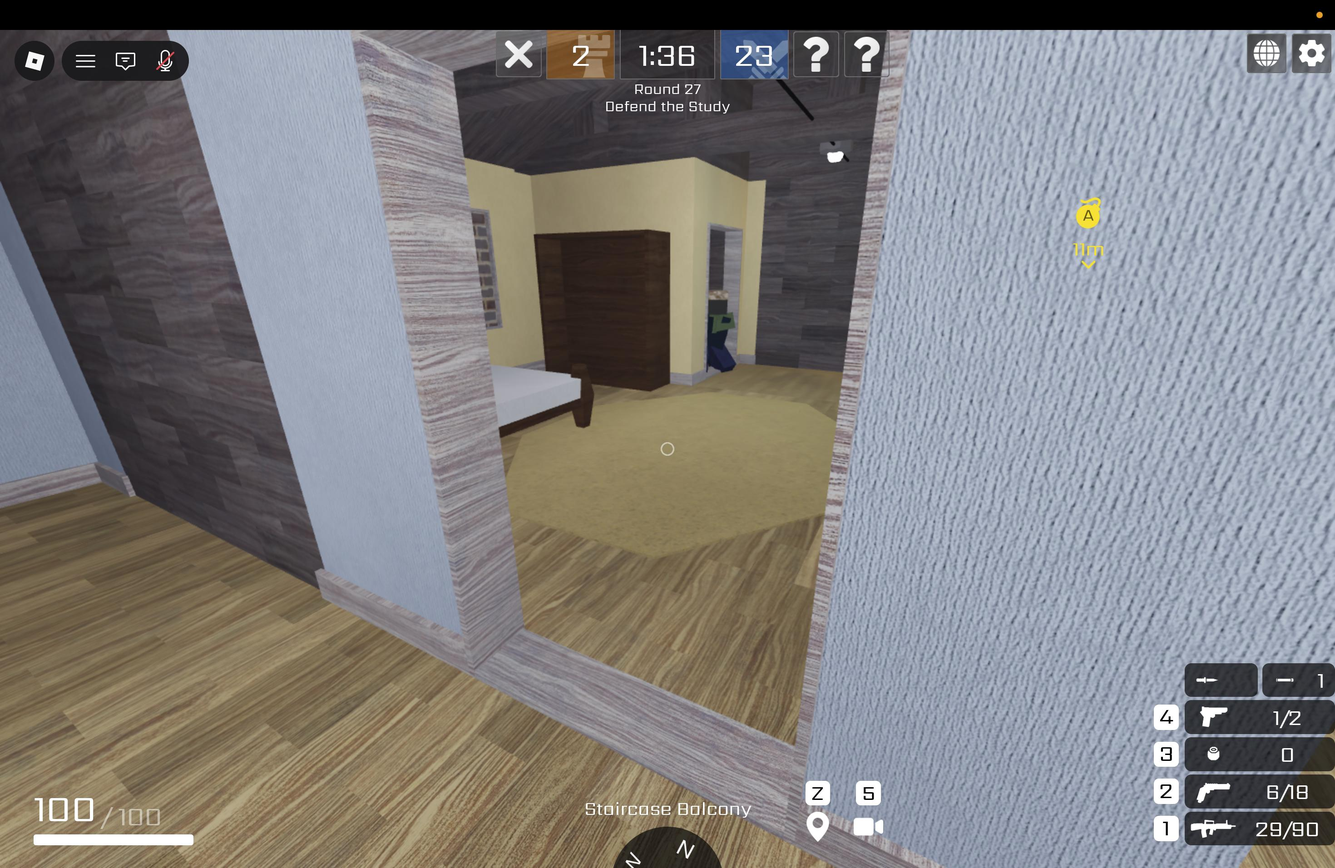enemy: (701, 290, 739, 373)
